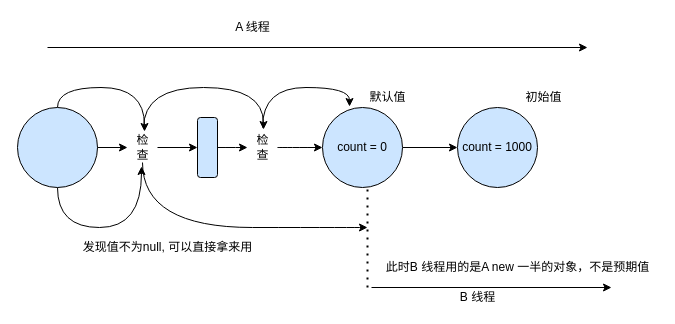
The diagram is 675 pixels wide and 324 high, and some of its shapes have lost their labels. The shapes that lost their labels are listed below. From the top down, each one's box as (x1, y1, x2, y2) in pixels, then its label:
(16, 106, 98, 188): null
(196, 116, 218, 178): 加锁
